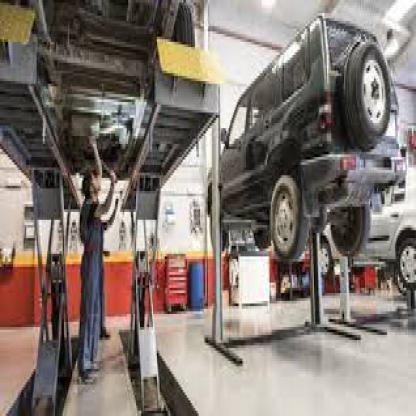dent: (244, 134, 273, 180)
